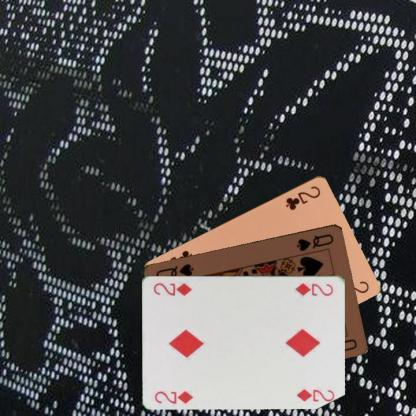2c: (283, 182, 322, 212)
2d: (151, 388, 195, 404), (292, 280, 335, 296)
Qs: (294, 232, 335, 252)
